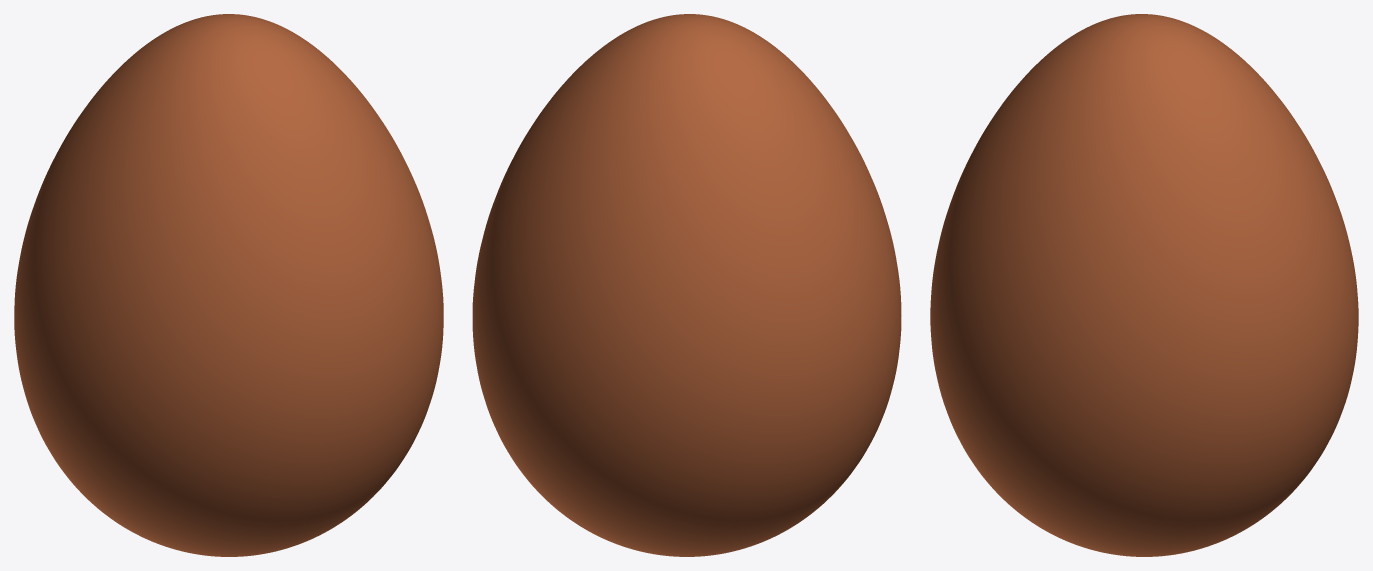
File: brown_egg_original.fbx
The picture shows the model from 3 angles, left to right: view 1: azimuth 30°, elevation 25°; view 2: azimuth 150°, elevation 25°; view 3: azimuth 270°, elevation 25°; orthographic projection.
Parts seen in each view (by area): view 1: Sphere; view 2: Sphere; view 3: Sphere.
Boxes of the visible parts, bbox=[...] form: Sphere: bbox=[14, 14, 443, 556]; Sphere: bbox=[472, 14, 901, 556]; Sphere: bbox=[930, 14, 1358, 556].
Size of the model in its own units: 63.32 by 83.73 by 63.26.
